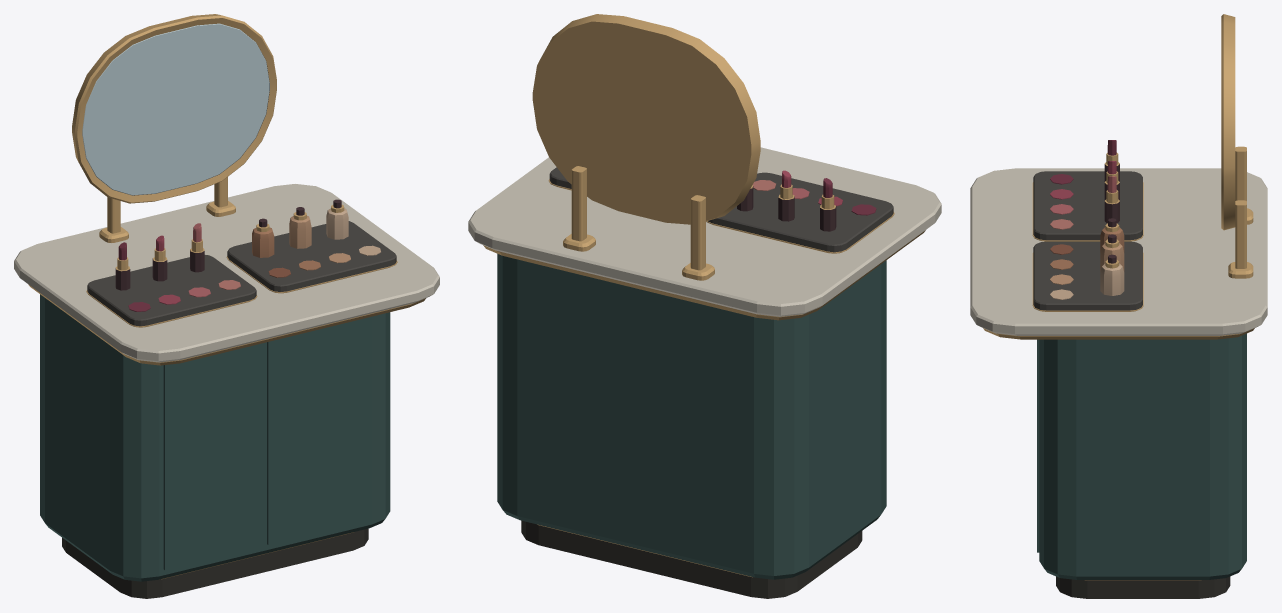
The model's file is mall-cosmetics-tester-bar-lod2.glb.
3 views of the same model, side by side, from view 1: azimuth 30°, elevation 25°; view 2: azimuth 150°, elevation 25°; view 3: azimuth 270°, elevation 25° (orthographic). The views are drawn at different scales.
Visible parts, largest first — view 1: Distant_tester_bar_LOD2; view 2: Distant_tester_bar_LOD2; view 3: Distant_tester_bar_LOD2.
Boxes of the visible parts, left/top/right/bottom form: Distant_tester_bar_LOD2: left=14, top=14, right=439, bottom=598; Distant_tester_bar_LOD2: left=468, top=14, right=941, bottom=598; Distant_tester_bar_LOD2: left=970, top=14, right=1267, bottom=598.
Size of the model in its own units: 1 by 1.5 by 0.8.
